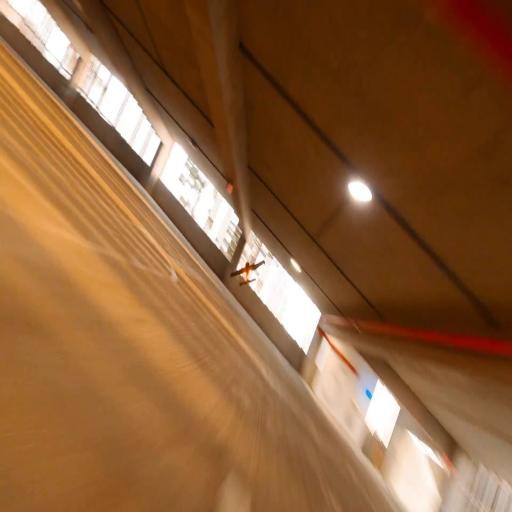uav: (228, 256, 266, 288)
